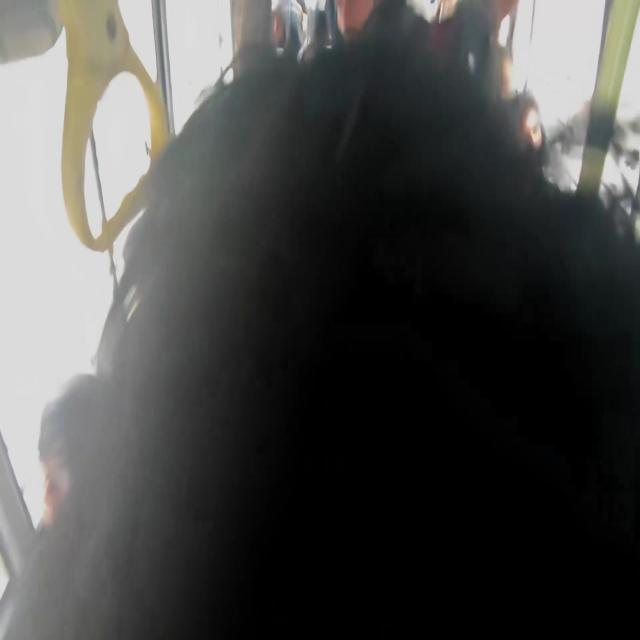person: (4, 1, 638, 637), (2, 370, 114, 638), (34, 370, 108, 536)
